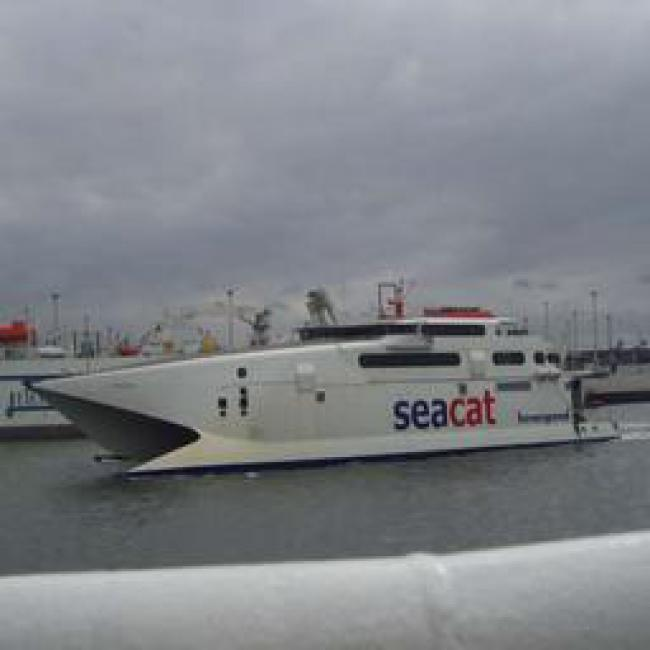Ship: (38, 358, 617, 464)
